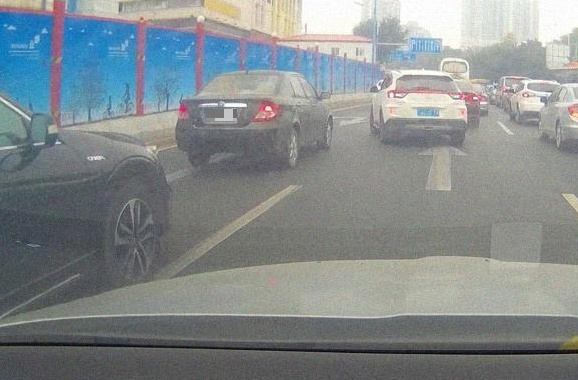L_light: (177, 104, 191, 118), (388, 90, 409, 98)
R_light: (253, 101, 281, 120), (447, 91, 465, 100)
T_light: (415, 89, 440, 94), (238, 74, 254, 78)
day-brake: (175, 70, 284, 167), (387, 70, 467, 143)
plate_1: (206, 109, 237, 121)
